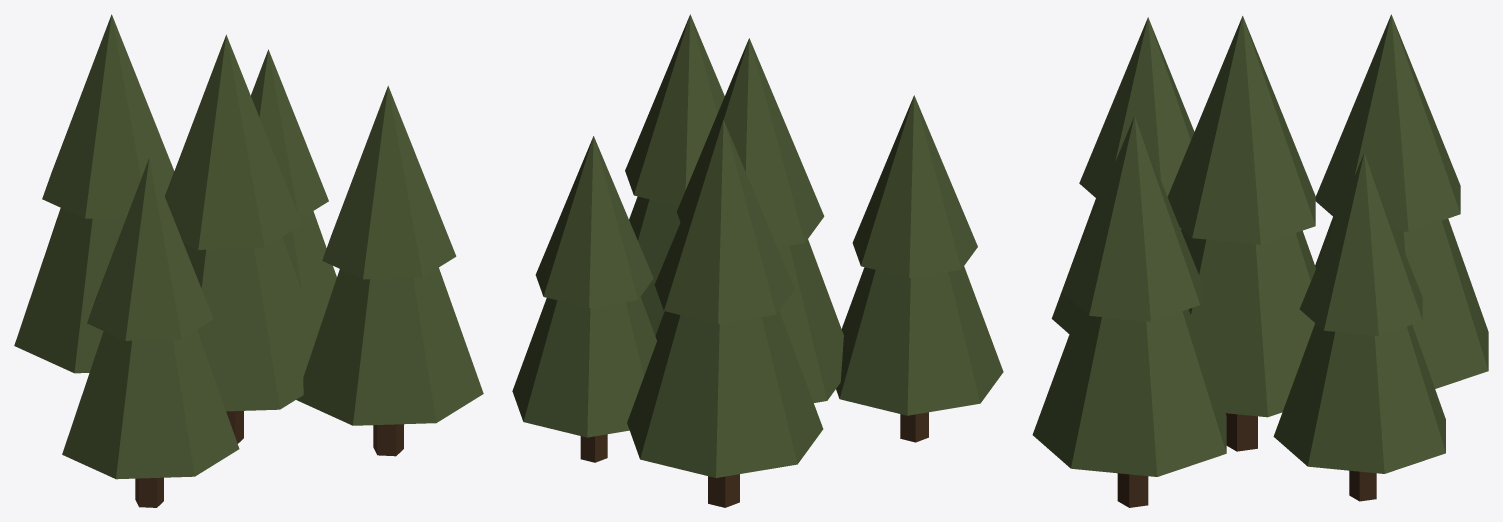
Rendered from deep_forest.fbx.
3 views of the same model, side by side, from view 1: azimuth 30°, elevation 25°; view 2: azimuth 150°, elevation 25°; view 3: azimuth 270°, elevation 25° (orthographic). The views are drawn at different scales.
Parts seen in each view (by area): view 1: Prop; view 2: Prop; view 3: Prop.
Part boxes in pixels (x1,y1,x2,y2): Prop: (14,14,483,507); Prop: (512,14,1003,507); Prop: (1032,14,1488,507).
Size of the model in its own units: 1.77 by 1.69 by 1.75.
